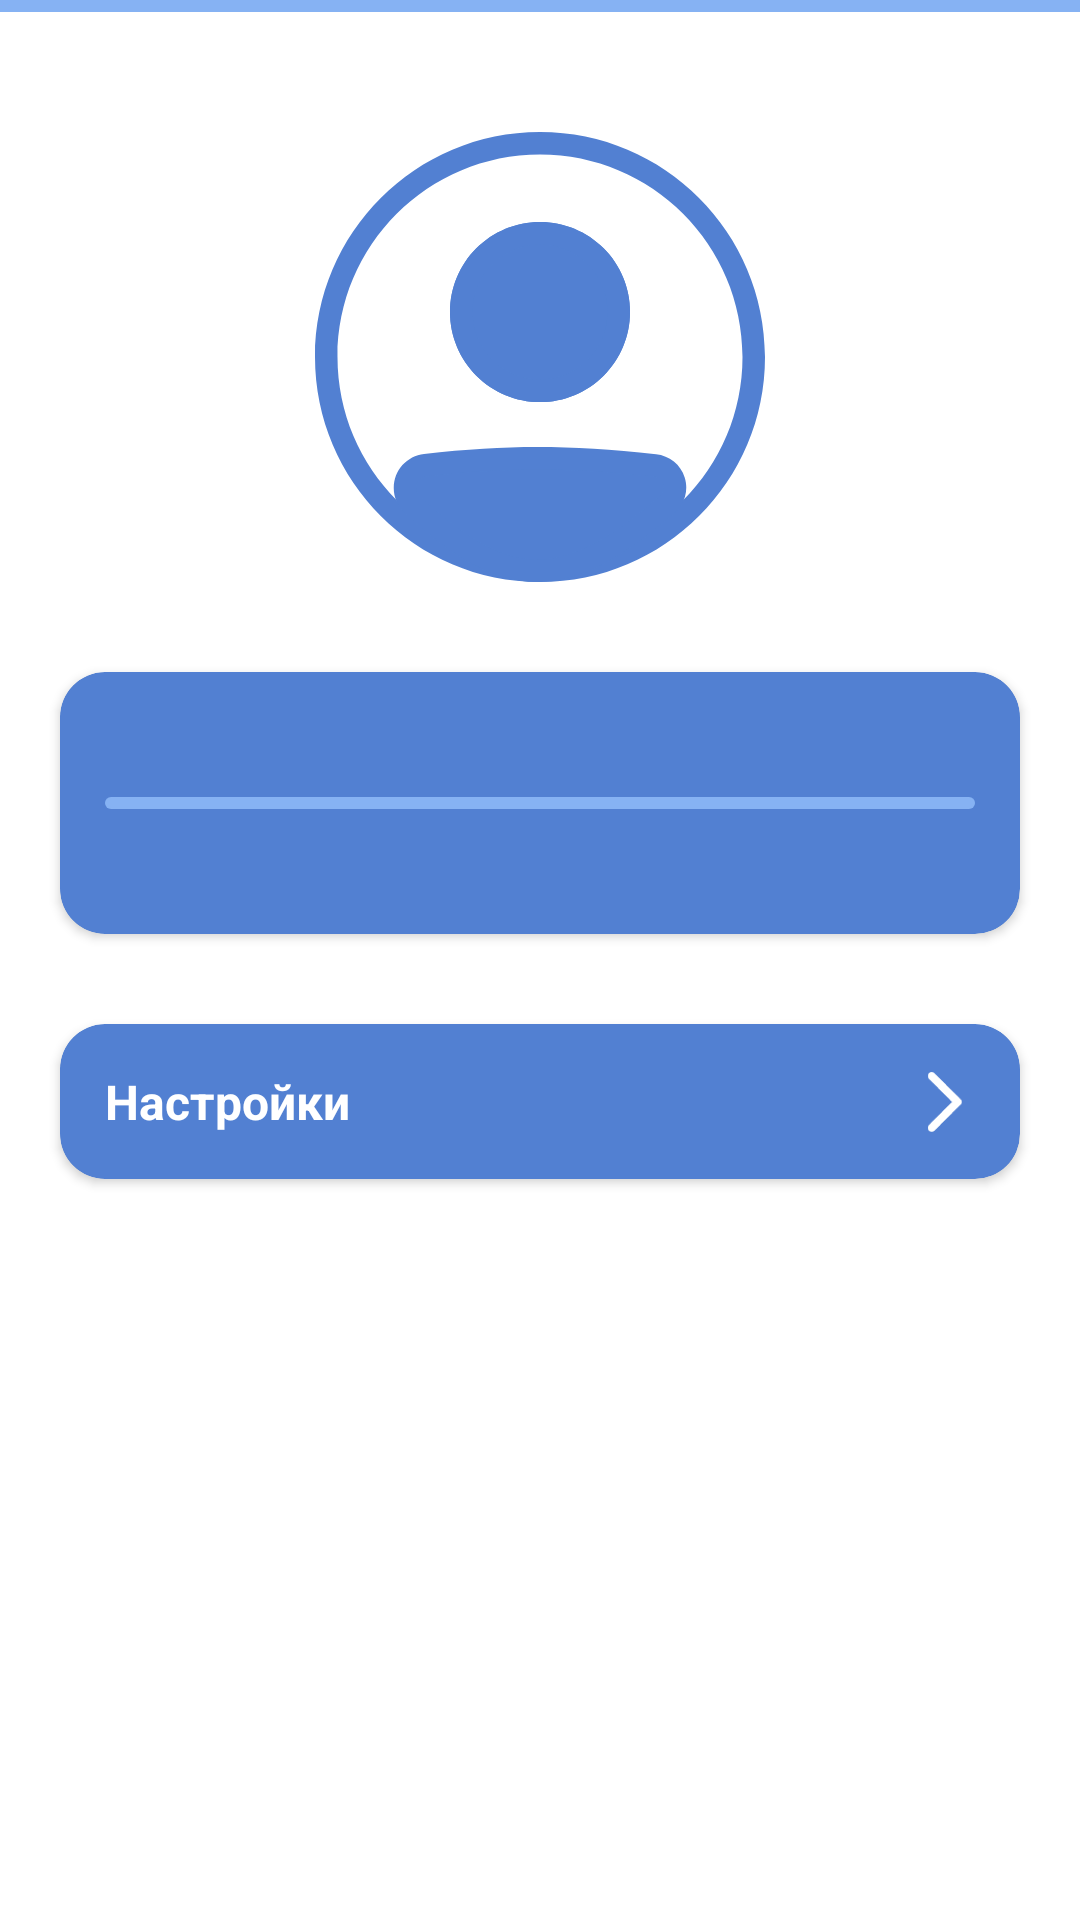

Icon bounding boxes for this 1080w x 1920h phone screenshot, format (x1, y1, x2, y2):
forward variant: (928, 1072, 962, 1132)
